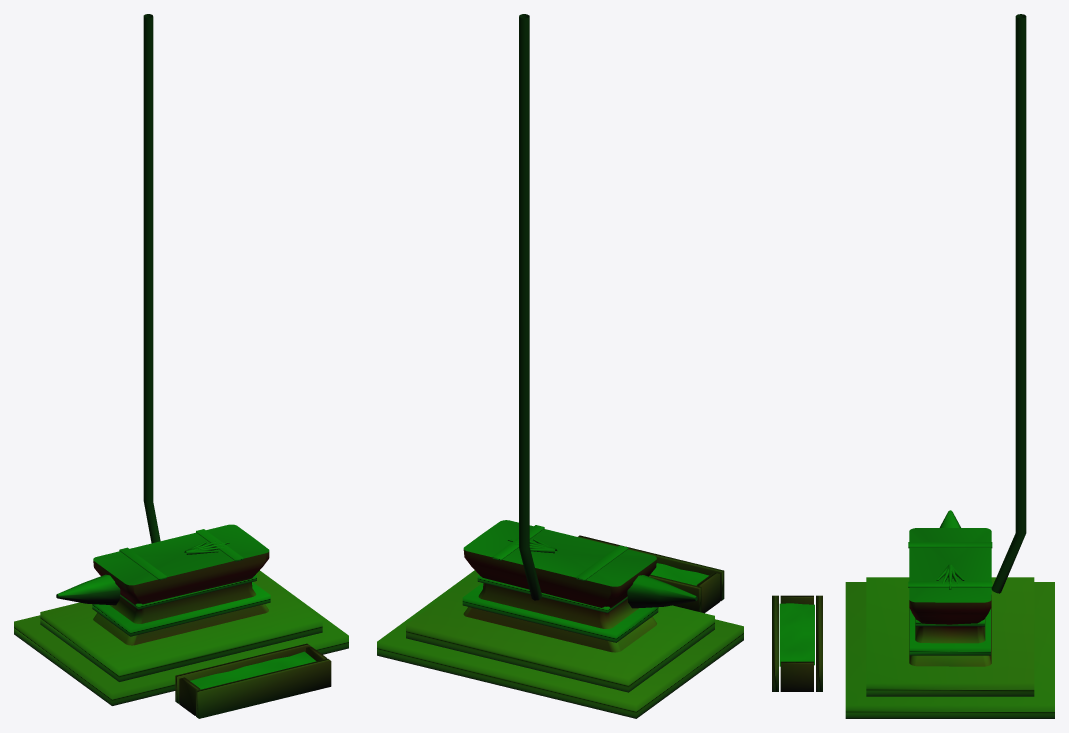
Rendered from anvil_altar.glb.
3 views of the same model, side by side, from view 1: azimuth 30°, elevation 25°; view 2: azimuth 150°, elevation 25°; view 3: azimuth 270°, elevation 25° (orthographic). The views are drawn at different scales.
Visible parts, largest first — view 1: anvil_altar; view 2: anvil_altar; view 3: anvil_altar.
Part boxes in pixels (x1,y1,x2,y2): anvil_altar: (14,14,348,718); anvil_altar: (377,14,743,718); anvil_altar: (772,14,1054,718).
Size of what is drawn, in the model's own units: 5.08 by 12.03 by 4.81.
